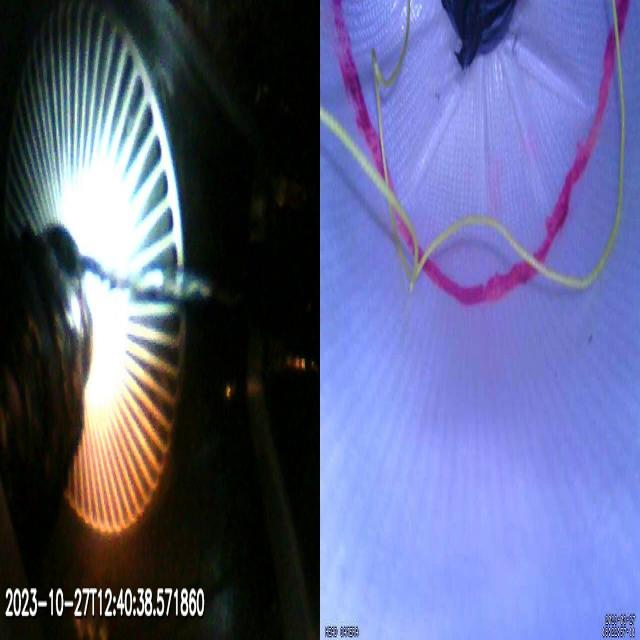red-circle: (332, 0, 631, 309)
